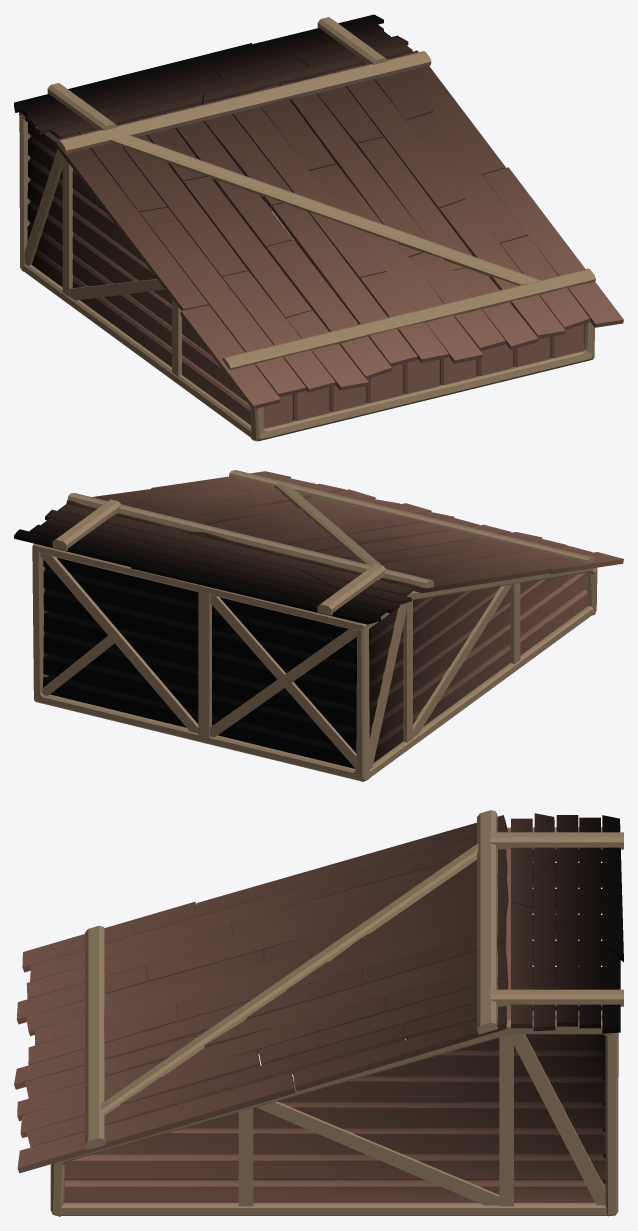
The model's file is StandardWoodenRoof04.fbx.
3 views of the same model, one above another, from view 1: azimuth 30°, elevation 25°; view 2: azimuth 150°, elevation 25°; view 3: azimuth 270°, elevation 25° (orthographic). The views are drawn at different scales.
Parts seen in each view (by area): view 1: standard_wooden_roof_4; view 2: standard_wooden_roof_4; view 3: standard_wooden_roof_4.
Boxes of the visible parts, x1,y1,x2,y2 form: standard_wooden_roof_4: (14, 14, 623, 441); standard_wooden_roof_4: (14, 470, 623, 781); standard_wooden_roof_4: (14, 810, 623, 1216).
Size of the model in its own units: 649 by 290 by 770.
